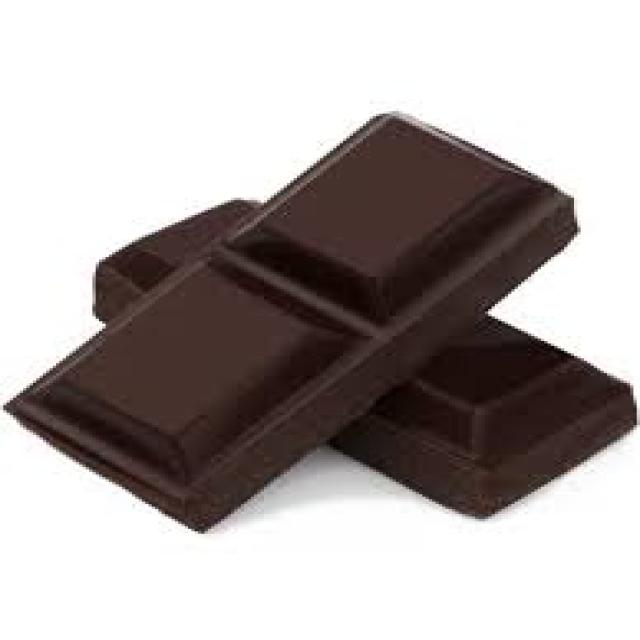Chocolate: (4, 99, 638, 535)
